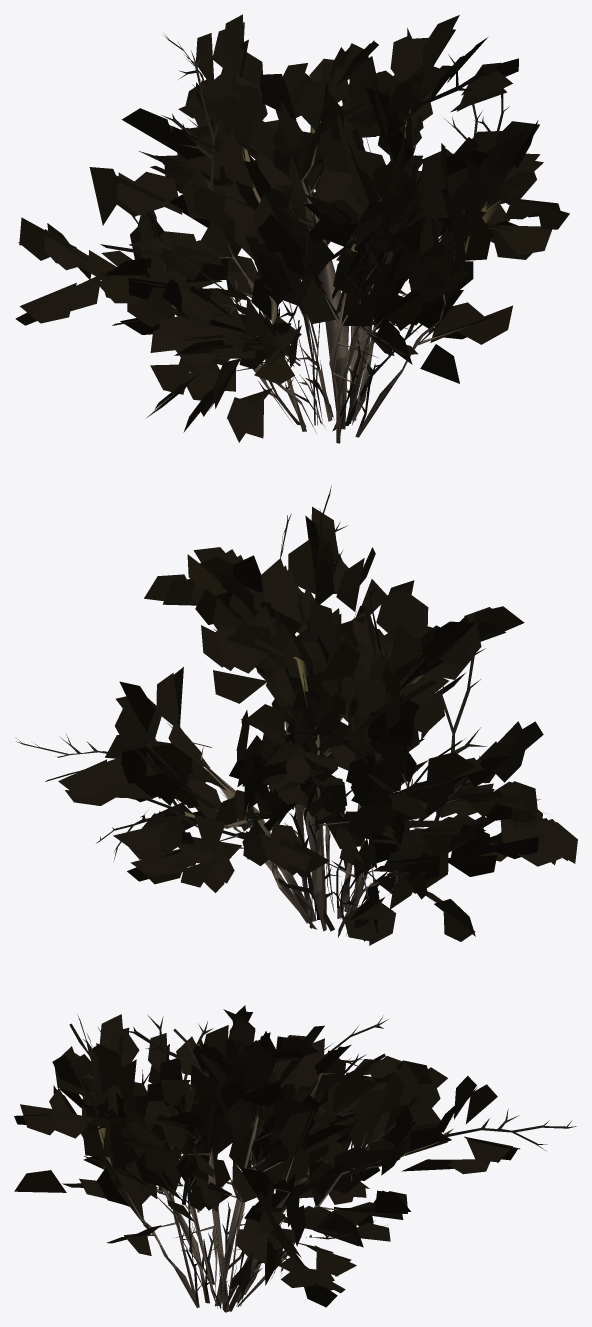
Rendered from ph_shrub_2.glb.
3 views of the same model, one above another, from view 1: azimuth 30°, elevation 25°; view 2: azimuth 150°, elevation 25°; view 3: azimuth 270°, elevation 25° (orthographic). The views are drawn at different scales.
Parts seen in each view (by area): view 1: ph_shrub_2_lod1; view 2: ph_shrub_2_lod1; view 3: ph_shrub_2_lod1.
Part boxes in pixels (bbox=[...]): ph_shrub_2_lod1: bbox=[15, 14, 569, 443]; ph_shrub_2_lod1: bbox=[15, 485, 577, 945]; ph_shrub_2_lod1: bbox=[14, 1005, 576, 1312].
Bounding box in the file's own units: 0.6966 × 0.5384 × 0.8432.
Materials: 3 (3 with a texture image).
